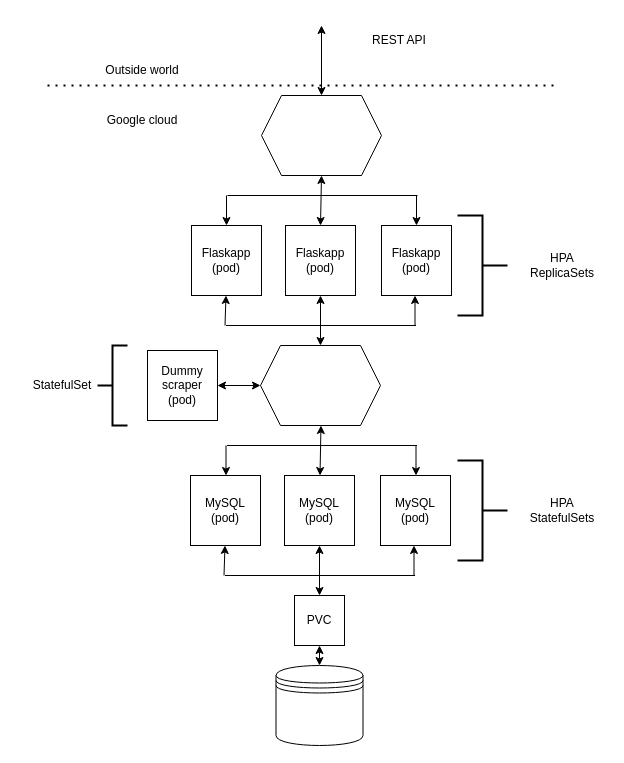
Some shapes in this 624 by 763 pixel diagram are drawn without their labels. Each missing label, with the box of its shape:
Flaskapp service (load balancer): (260, 94, 382, 176)
MySQL service (ClusterIP): (260, 344, 380, 426)
Persistance /tmp/data: (275, 664, 363, 746)
